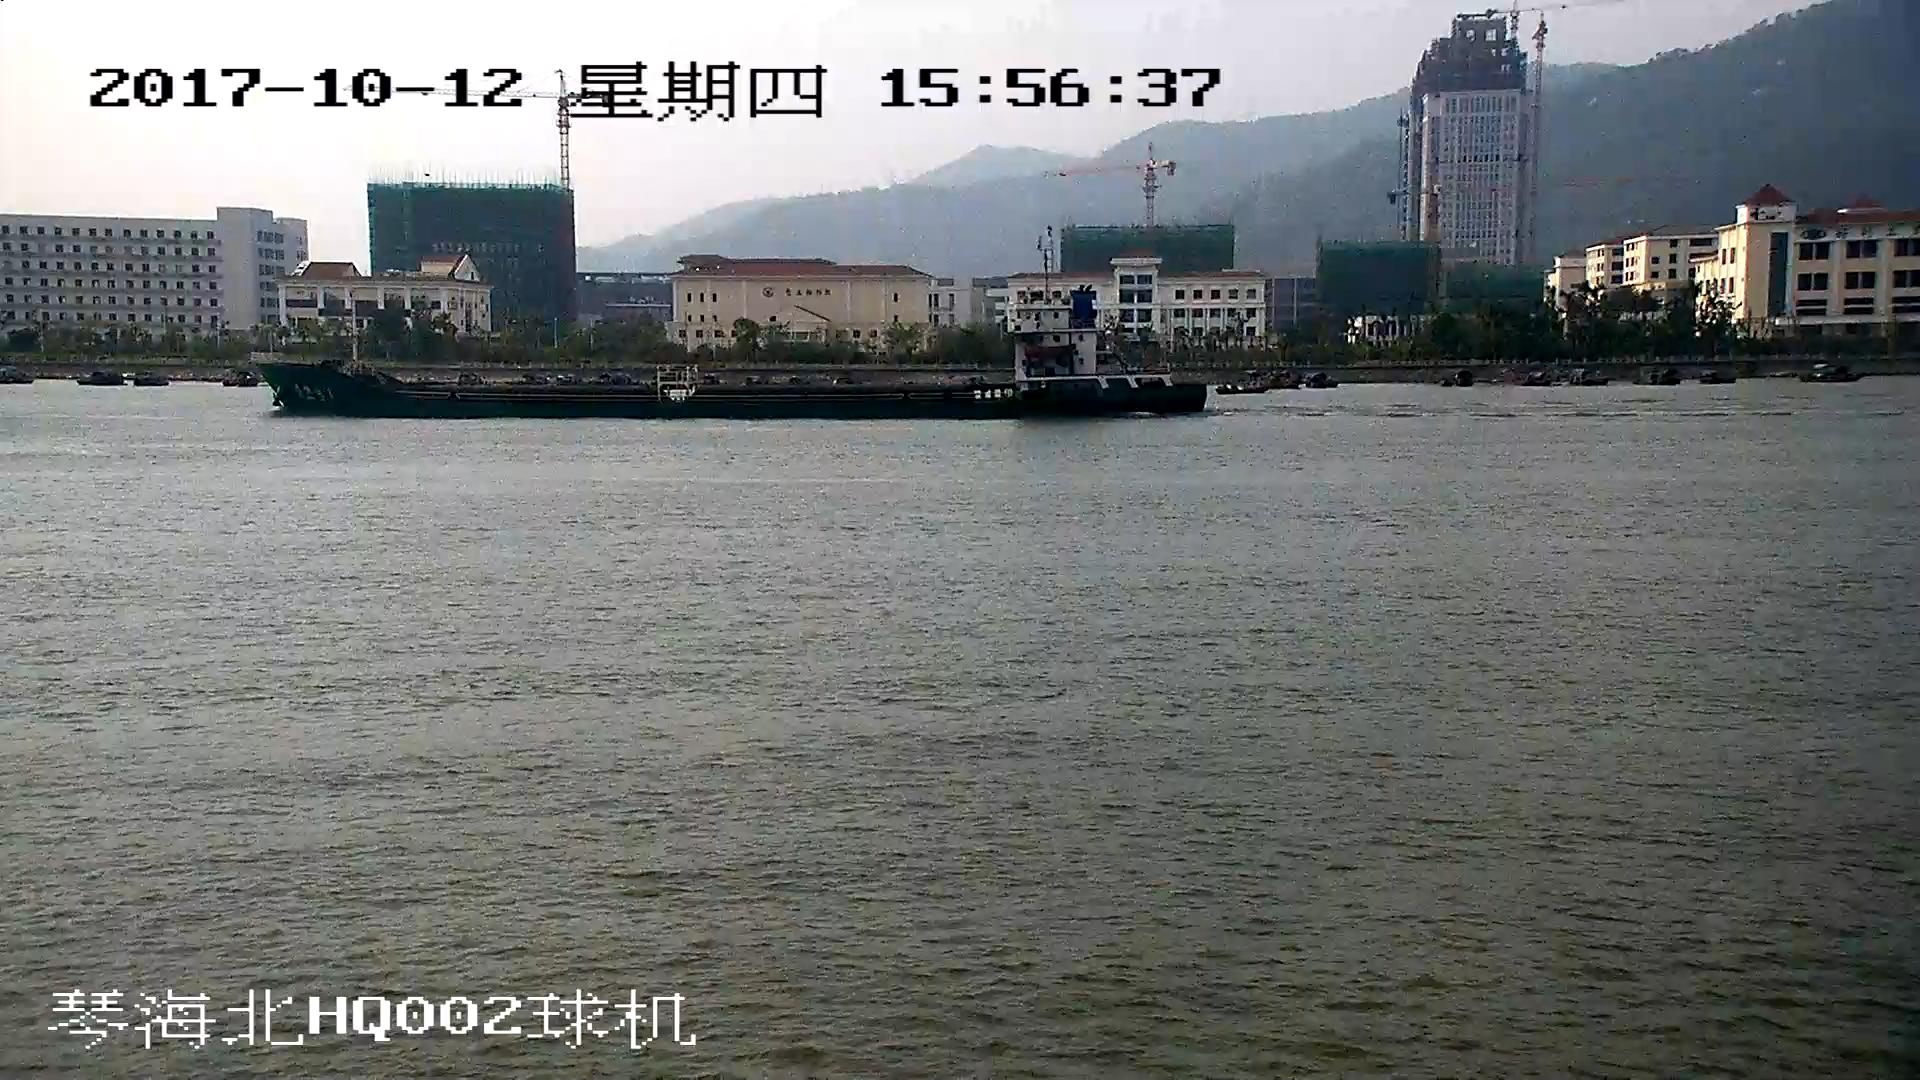general cargo ship: (253, 295, 1210, 418)
